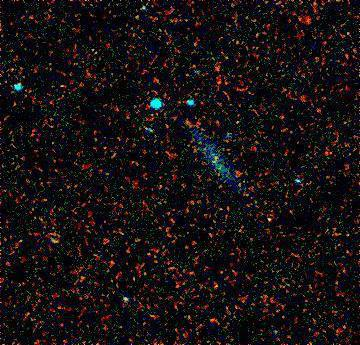star: (204, 269, 234, 299)
